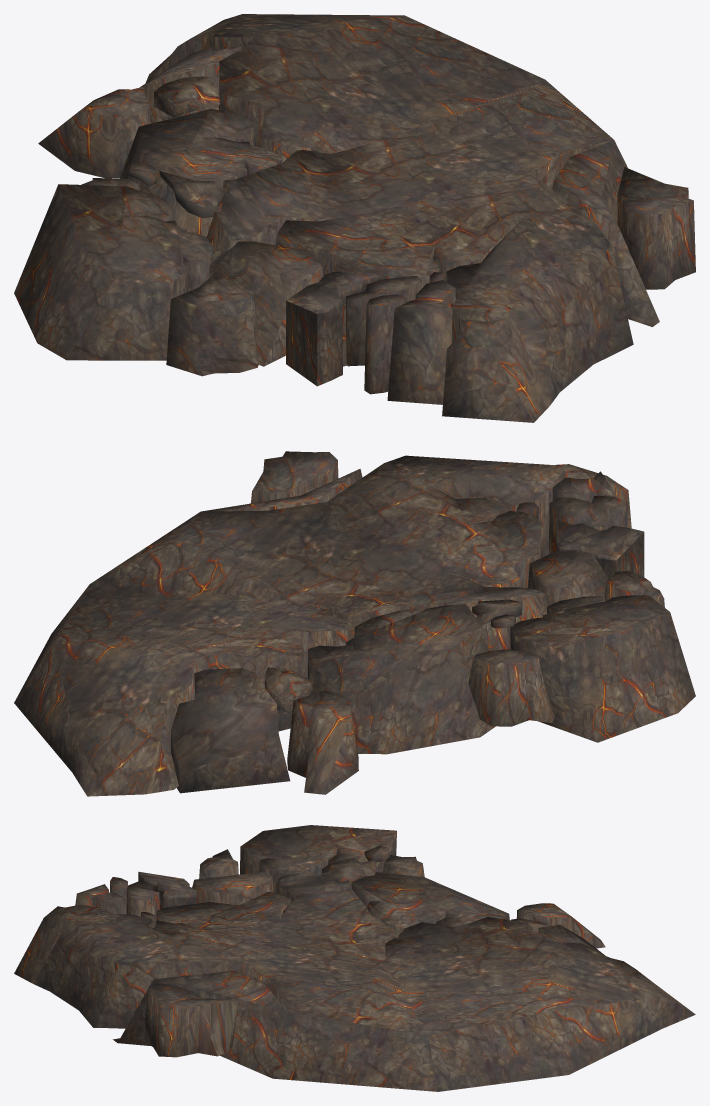
The model's file is S_Rock_Black002.FBX.
3 renders of one model, top to bottom at view 1: azimuth 30°, elevation 25°; view 2: azimuth 150°, elevation 25°; view 3: azimuth 270°, elevation 25°, orthographic. The views are drawn at different scales.
Parts seen in each view (by area): view 1: S_Rock_Black002; view 2: S_Rock_Black002; view 3: S_Rock_Black002.
Boxes of the visible parts, x1,y1,x2,y2 form: S_Rock_Black002: (14, 14, 695, 422); S_Rock_Black002: (14, 451, 695, 796); S_Rock_Black002: (14, 825, 695, 1091).
Size of the model in its own units: 735 by 962 by 129.
